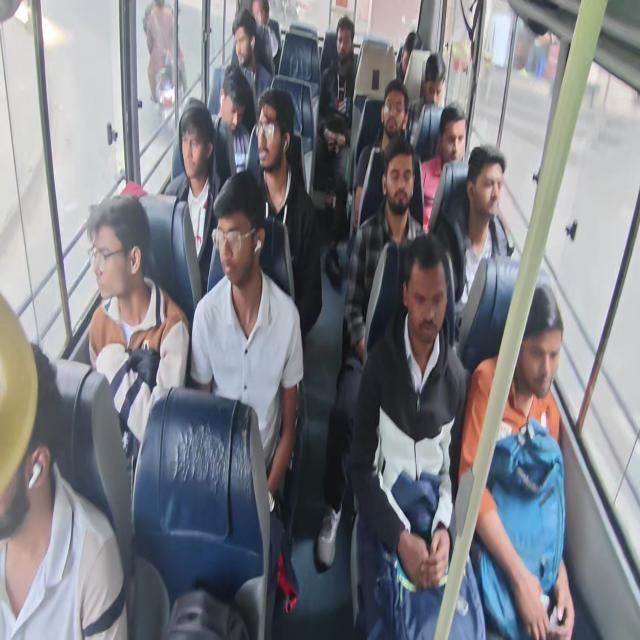person: (0, 350, 63, 525), (88, 213, 148, 310), (519, 299, 563, 405), (215, 204, 255, 288), (412, 257, 447, 343), (474, 146, 509, 232), (174, 115, 208, 185), (210, 82, 248, 138), (382, 157, 412, 216), (255, 103, 283, 166), (381, 83, 405, 135), (439, 115, 464, 163), (332, 25, 355, 71), (228, 23, 251, 66), (425, 64, 444, 112), (402, 37, 421, 78)
